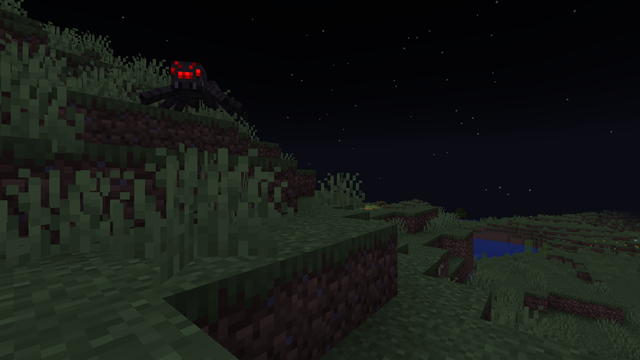araignees: (147, 48, 243, 120)
